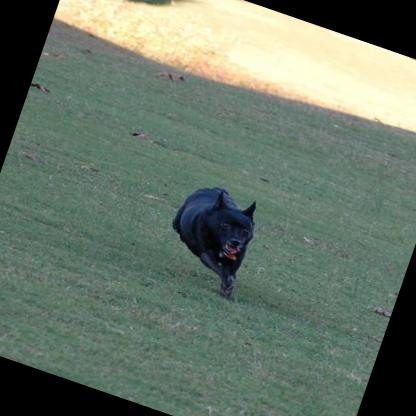schipperke: (152, 168, 274, 301)
